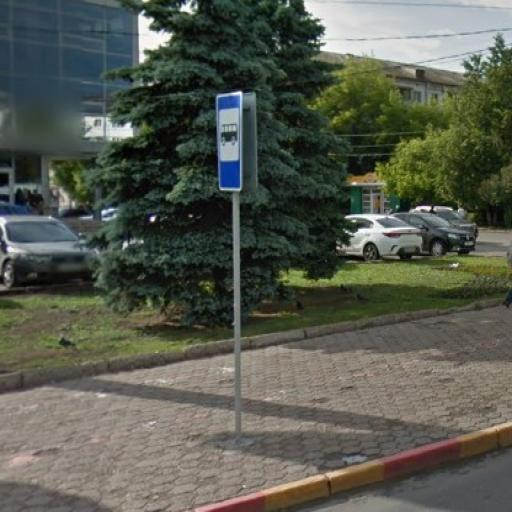traffic_sign: (215, 91, 246, 195)
